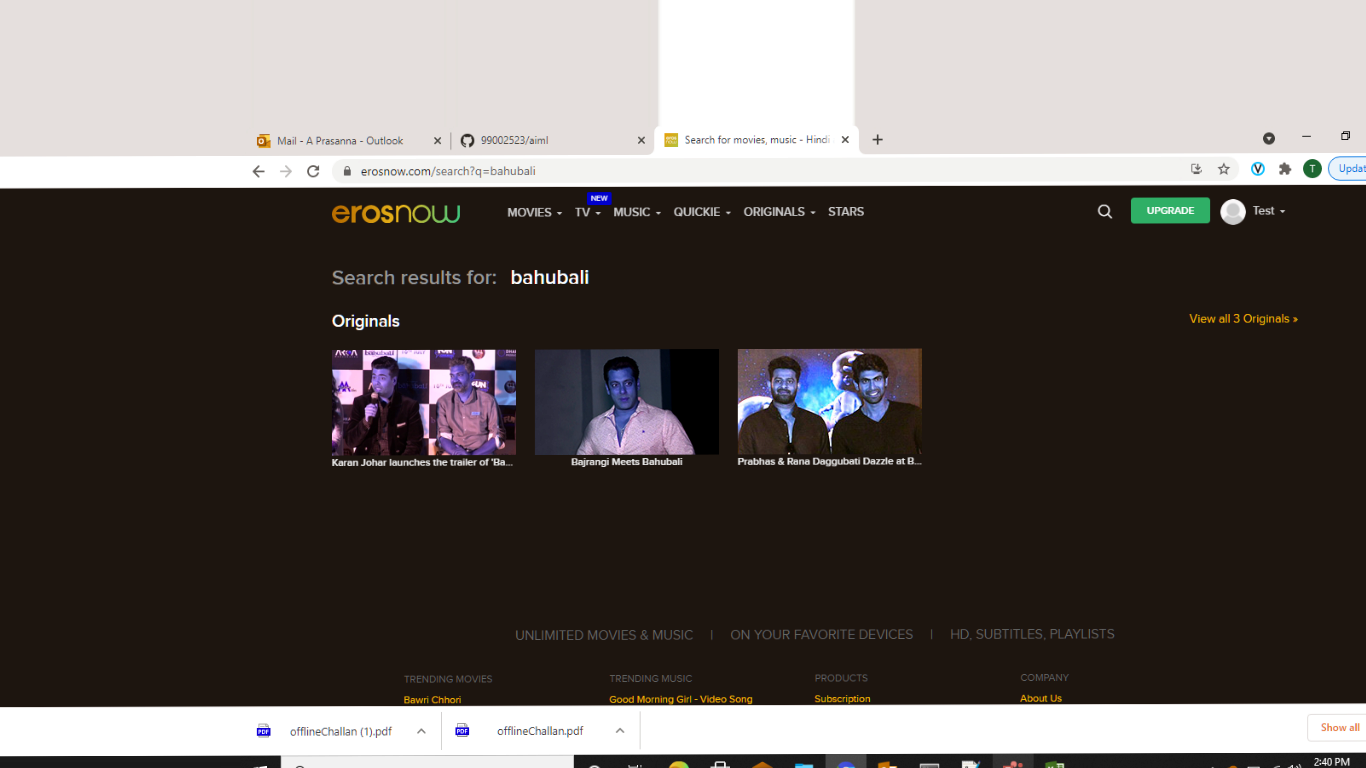profileicon: (1219, 193, 1312, 238)
resultsfound: (330, 255, 619, 303)
searchicon: (1082, 201, 1123, 230)
